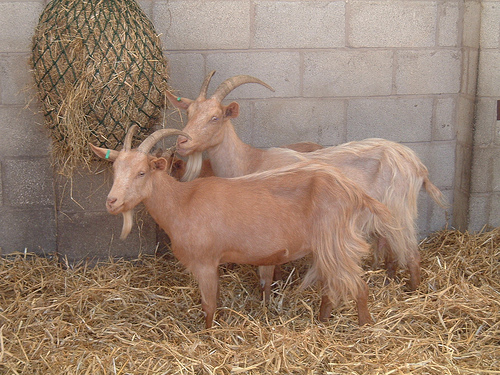goat: (160, 69, 449, 291), (87, 123, 374, 329)
